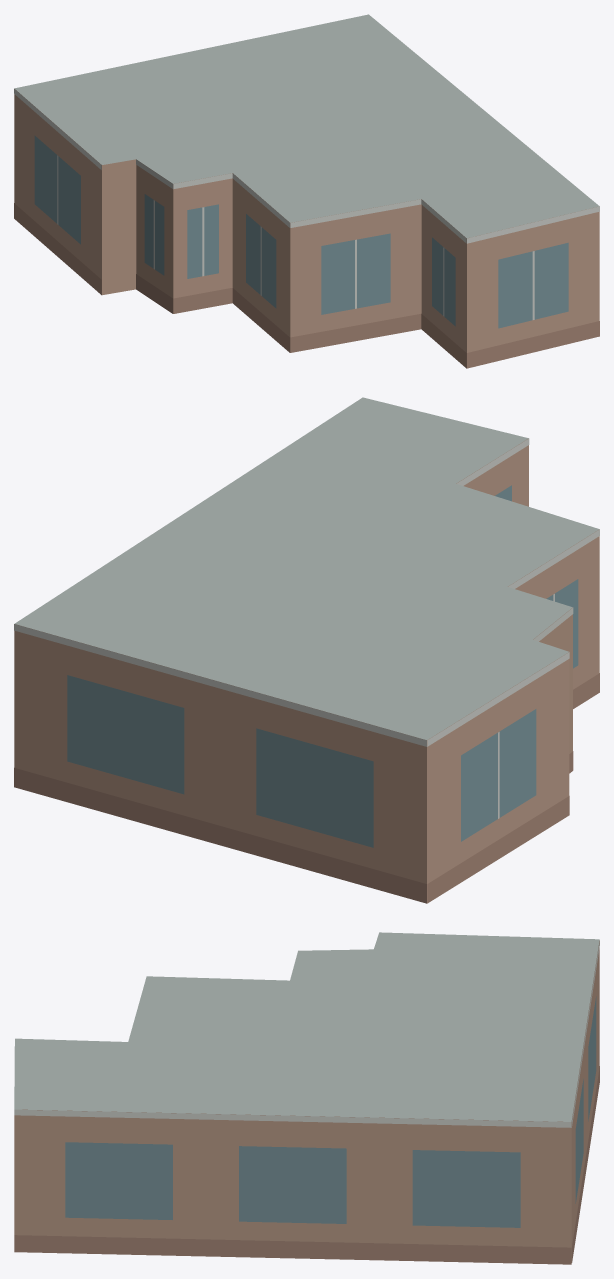
Rendered from survey-upis-32946048.glb.
The picture shows the model from 3 angles, top to bottom: view 1: azimuth 30°, elevation 25°; view 2: azimuth 150°, elevation 25°; view 3: azimuth 270°, elevation 25°; orthographic projection. The views are drawn at different scales.
Parts seen in each view (by area): view 1: survey-upis-32946048.tmp; view 2: survey-upis-32946048.tmp; view 3: survey-upis-32946048.tmp.
Boxes of the visible parts, bbox=[...] form: survey-upis-32946048.tmp: bbox=[14, 14, 599, 368]; survey-upis-32946048.tmp: bbox=[14, 397, 599, 903]; survey-upis-32946048.tmp: bbox=[14, 932, 599, 1264].
Size of the model in its own units: 8.71 by 3.05 by 11.36.
